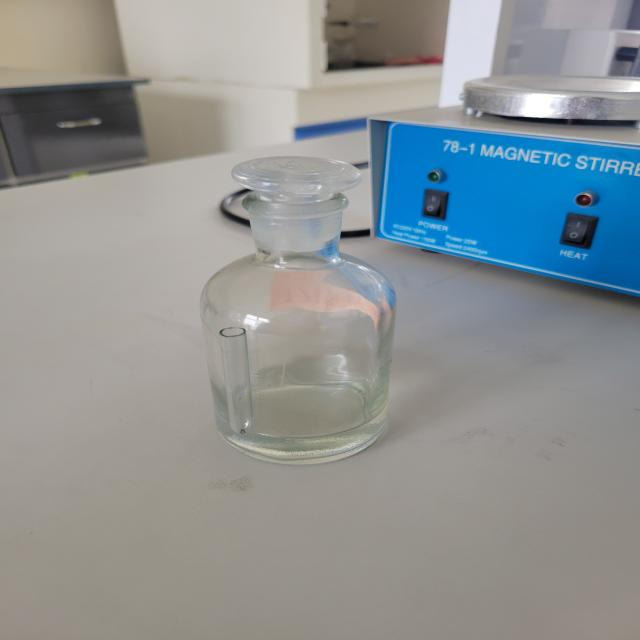Reagent_Bottle: (153, 116, 463, 489)
